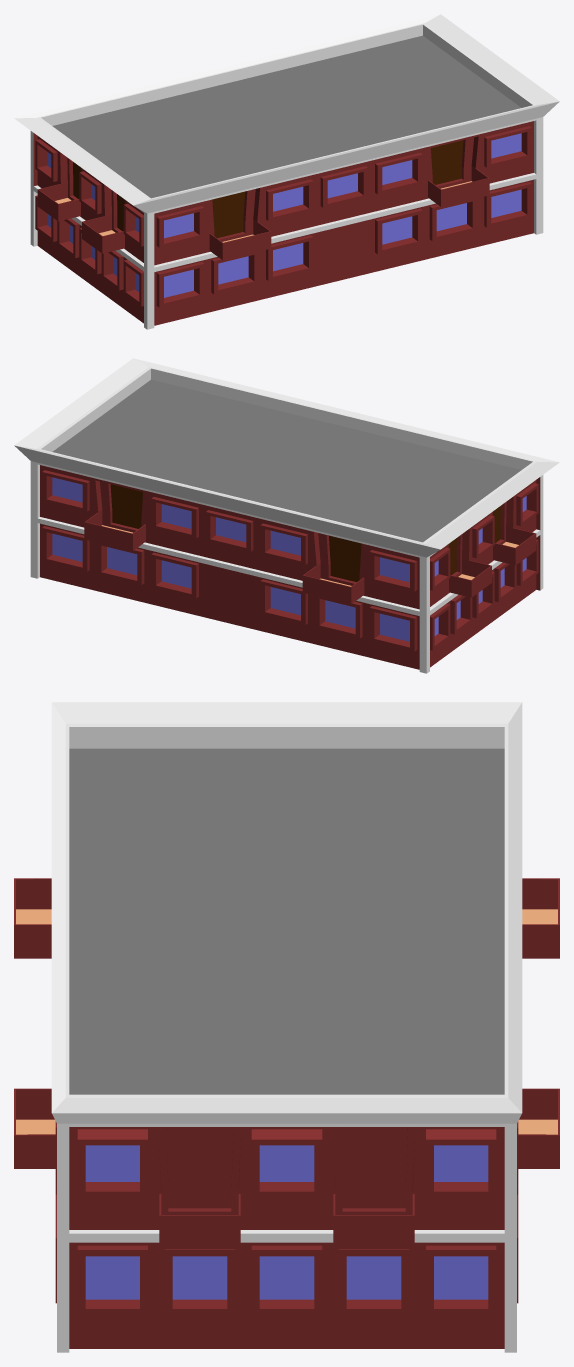
Rendered from Apartment Red Top.FBX.
3 renders of one model, top to bottom at view 1: azimuth 30°, elevation 25°; view 2: azimuth 150°, elevation 25°; view 3: azimuth 270°, elevation 25°, orthographic. The views are drawn at different scales.
Parts seen in each view (by area): view 1: Apartment red top; view 2: Apartment red top; view 3: Apartment red top.
Part boxes in pixels (<box>): Apartment red top: <box>14,14,559,329</box>; Apartment red top: <box>14,358,559,673</box>; Apartment red top: <box>14,702,559,1352</box>.
Size of the model in its own units: 1231 by 349 by 680.
Materials: 1 (1 with a texture image).
